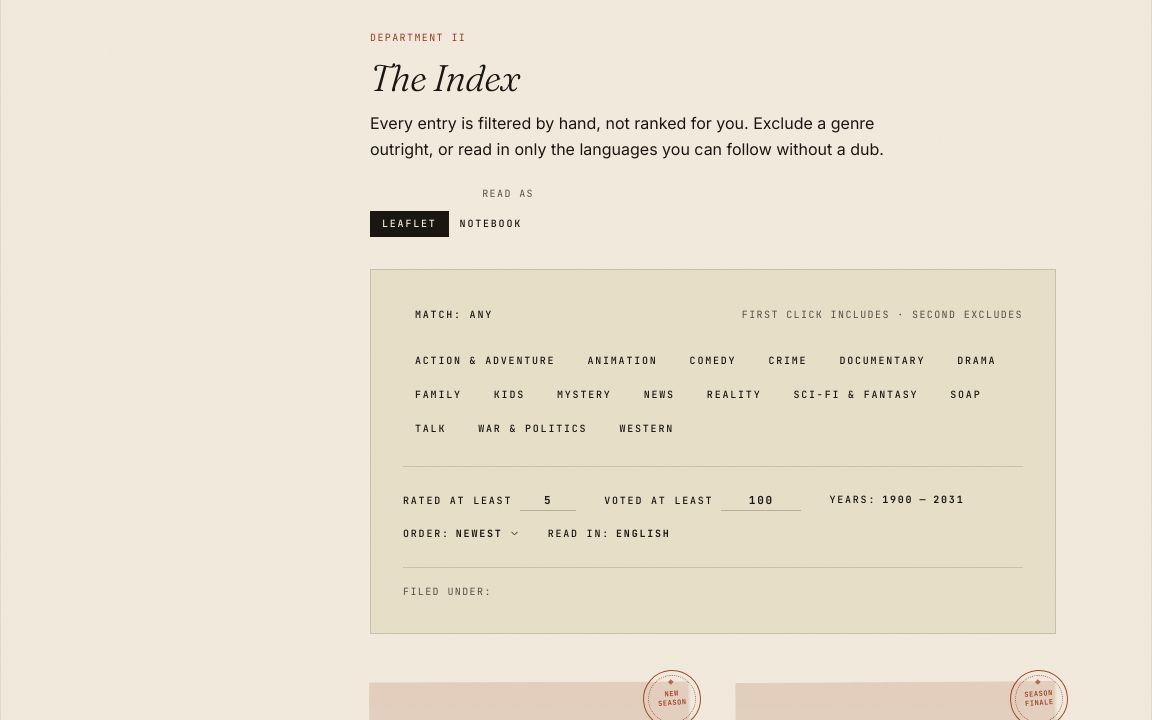
Test case: Cabinet › cycles a genre through include, exclude and off
This screenshot has width=1152, height=720.
(page scrolled)
Click the button "Crime".
click(788, 361)  # box [756, 348, 819, 374]
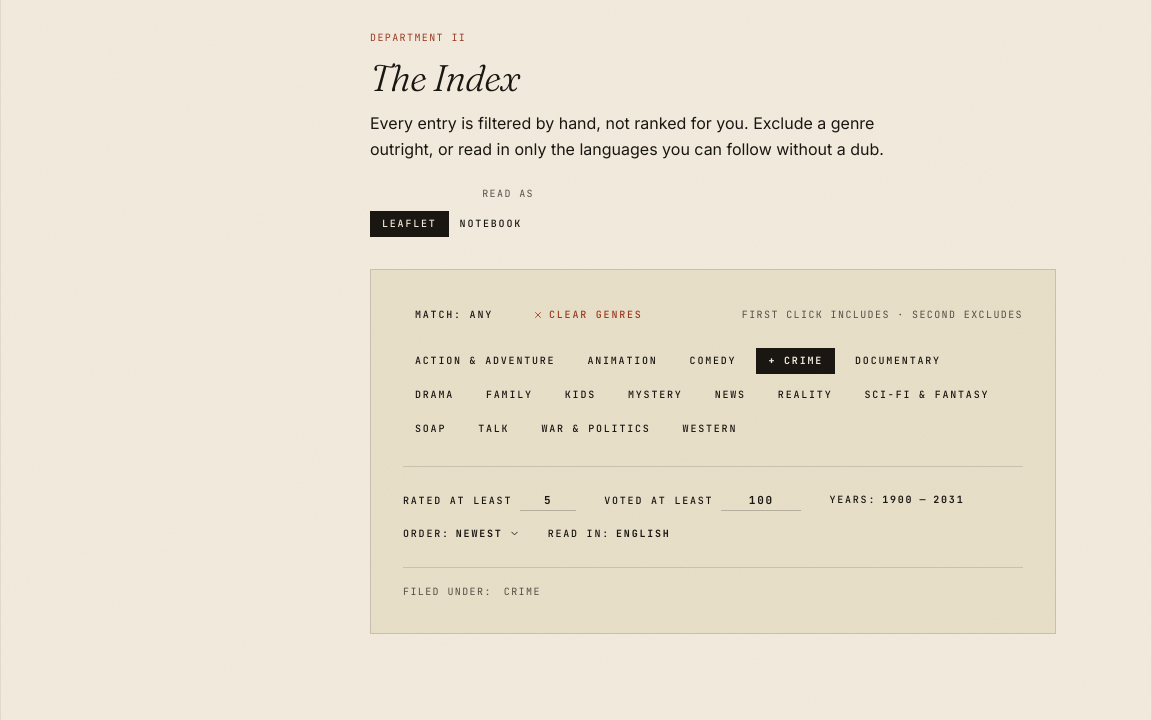
Expected: the button "+ Crime" is shown
Click the button "+ Crime".
click(796, 361)  # box [756, 348, 835, 374]
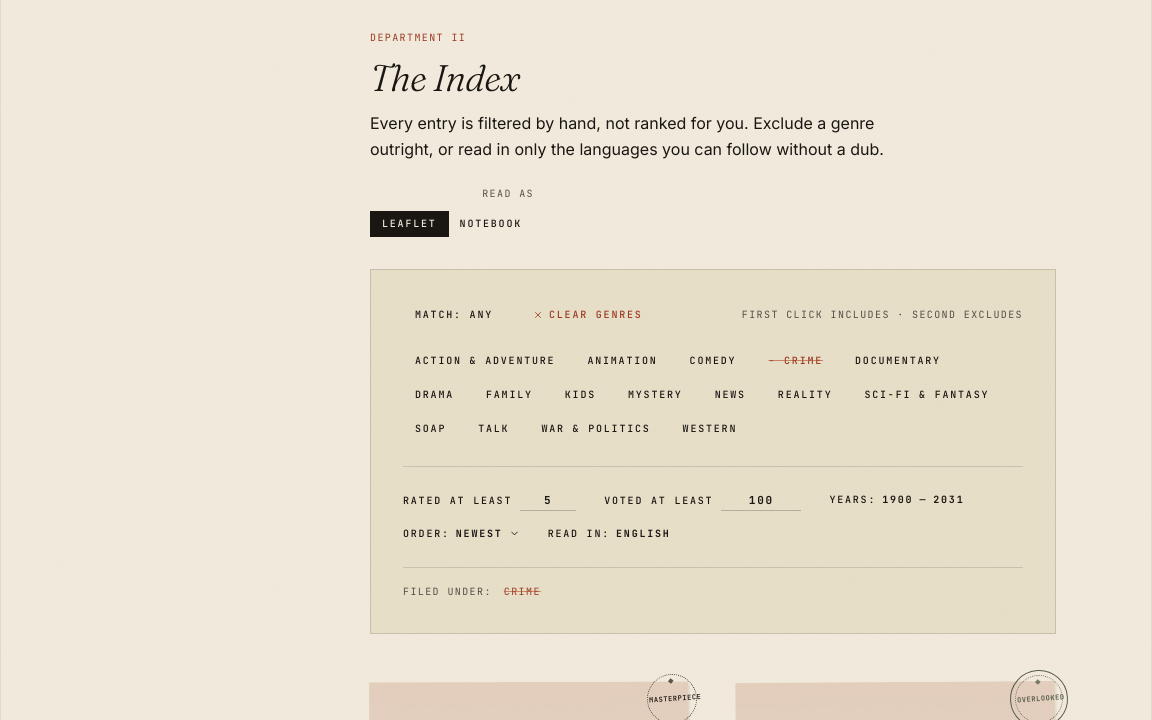
Expected: the button "− Crime" has attribute aria-pressed="mixed"
Click the button "− Crime".
click(796, 361)  # box [756, 348, 835, 374]
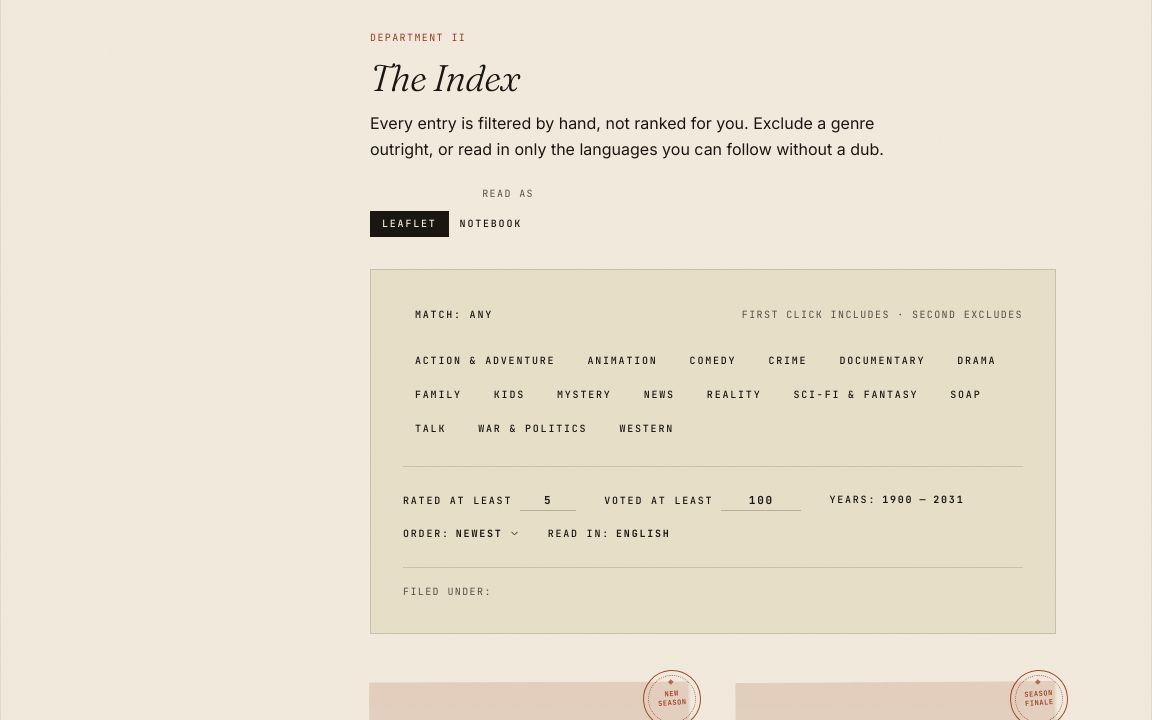
Expected: the button "Crime" is shown, [756, 348, 819, 374]
